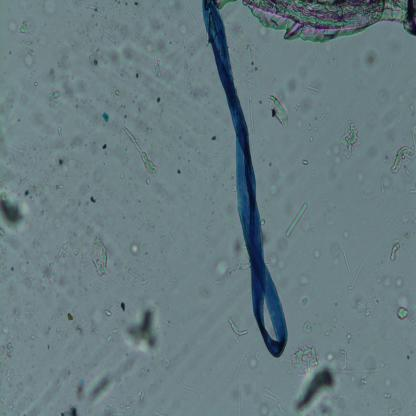Background material: (26, 169, 98, 215), (0, 230, 46, 298), (147, 0, 194, 63), (119, 121, 159, 180), (294, 367, 342, 413), (228, 25, 263, 88), (121, 303, 162, 354), (75, 364, 118, 408), (0, 124, 45, 166), (39, 360, 75, 406), (0, 361, 30, 416), (52, 125, 94, 159), (54, 67, 86, 110), (12, 301, 42, 346), (63, 233, 88, 282), (118, 382, 154, 416), (87, 46, 138, 70), (0, 191, 28, 233), (180, 62, 207, 104), (44, 304, 68, 348), (90, 229, 111, 278), (338, 116, 360, 160), (292, 345, 322, 377), (121, 356, 149, 390), (107, 77, 132, 115), (267, 157, 287, 198), (265, 95, 289, 129), (68, 17, 93, 49), (37, 263, 69, 288), (132, 26, 158, 55), (214, 253, 236, 286), (125, 266, 149, 294), (19, 18, 35, 56), (0, 89, 18, 122), (322, 139, 344, 166), (133, 69, 151, 101), (269, 247, 286, 277), (73, 312, 97, 332), (0, 318, 19, 342), (112, 260, 128, 288), (362, 48, 382, 70), (248, 94, 258, 137), (132, 206, 150, 229), (22, 52, 38, 77), (328, 240, 342, 268), (56, 402, 83, 416), (42, 0, 61, 19), (295, 268, 313, 288), (350, 292, 366, 313), (45, 89, 61, 110), (372, 354, 388, 374), (56, 239, 71, 260), (389, 238, 401, 263), (152, 56, 164, 80), (118, 22, 134, 40), (0, 339, 14, 359), (377, 86, 392, 104), (181, 230, 193, 252), (395, 295, 412, 309), (290, 75, 300, 96), (314, 108, 328, 122), (291, 104, 304, 119), (387, 404, 403, 416), (358, 374, 370, 390), (397, 305, 409, 321), (341, 347, 348, 374), (302, 319, 314, 334), (128, 240, 139, 256), (402, 225, 413, 240), (101, 110, 111, 126), (19, 94, 30, 108), (102, 205, 112, 220), (300, 294, 310, 309), (305, 120, 318, 131), (395, 274, 405, 288), (156, 108, 165, 123), (344, 328, 353, 342), (329, 312, 339, 324), (9, 18, 18, 31), (408, 96, 414, 115), (102, 143, 110, 157), (66, 309, 74, 323), (323, 324, 332, 336), (206, 217, 215, 229), (410, 207, 416, 224), (132, 0, 142, 10), (227, 182, 236, 193), (300, 154, 308, 166), (403, 210, 409, 226), (174, 167, 183, 177), (364, 308, 372, 319), (313, 249, 321, 260), (48, 66, 54, 80), (372, 294, 379, 306), (399, 91, 406, 103), (357, 170, 364, 182), (31, 80, 40, 89), (57, 158, 66, 167), (154, 93, 160, 106), (146, 176, 154, 185), (105, 334, 114, 342), (120, 112, 129, 120), (381, 390, 391, 397), (105, 310, 113, 318), (167, 235, 175, 243), (110, 327, 118, 335), (140, 242, 146, 252), (404, 350, 410, 360), (210, 132, 216, 142), (186, 158, 193, 166), (306, 135, 314, 142), (203, 234, 210, 242), (208, 162, 213, 173), (178, 134, 183, 143), (133, 185, 138, 192), (8, 50, 13, 57), (214, 152, 219, 157), (124, 1, 127, 7), (178, 156, 182, 160), (325, 197, 328, 201)
Cotton: (201, 1, 289, 359), (242, 0, 416, 39)
Glass filter fibre: (160, 349, 205, 400), (347, 234, 376, 291), (390, 122, 416, 174), (285, 202, 309, 237), (181, 0, 204, 36), (100, 0, 118, 28), (228, 314, 248, 338), (311, 41, 327, 70), (232, 351, 247, 377), (98, 29, 117, 46), (342, 246, 352, 278), (263, 386, 280, 403), (236, 373, 242, 415), (84, 3, 104, 15), (276, 401, 286, 415), (306, 82, 320, 92), (380, 177, 386, 195), (388, 55, 394, 71), (408, 187, 416, 195)
